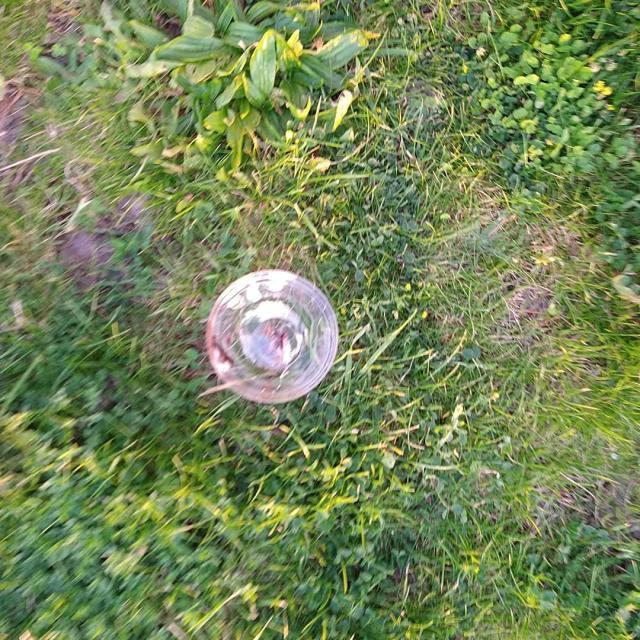Paper: (202, 265, 340, 408)
